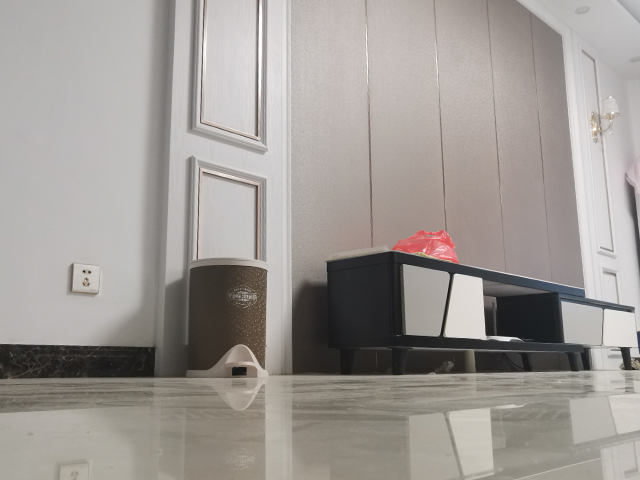cabinet: (319, 247, 640, 377)
trashcan: (184, 256, 272, 380)
